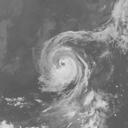cyclone: (34, 30, 94, 96)
